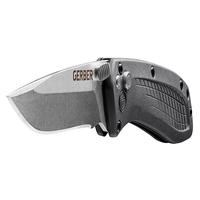knife: (4, 53, 193, 153)
